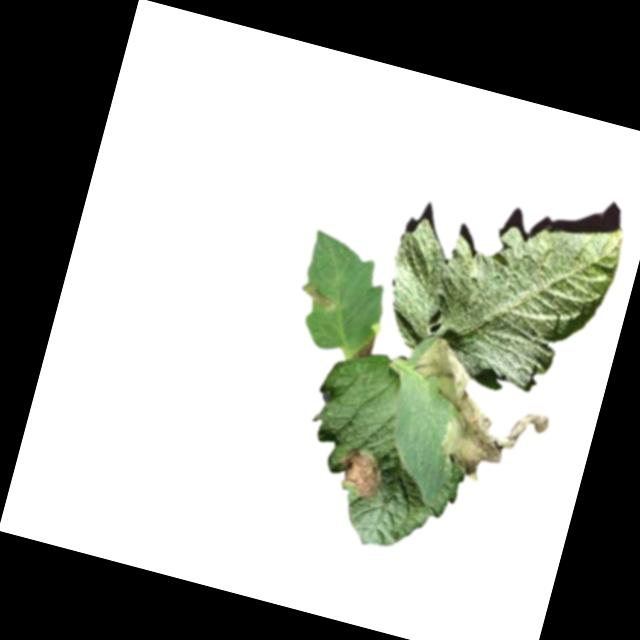Late_blight: (387, 333, 564, 498), (324, 441, 388, 504), (297, 282, 339, 313), (351, 330, 377, 363)
healthy: (366, 174, 627, 412)
